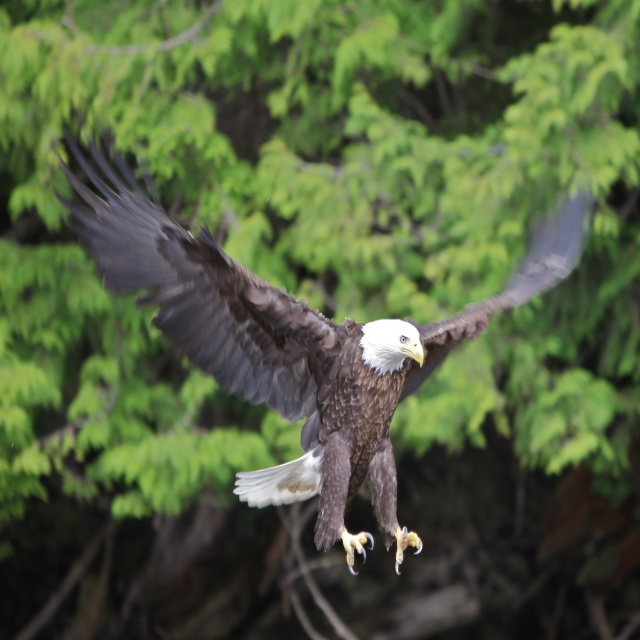Eagle: (53, 113, 593, 578)
